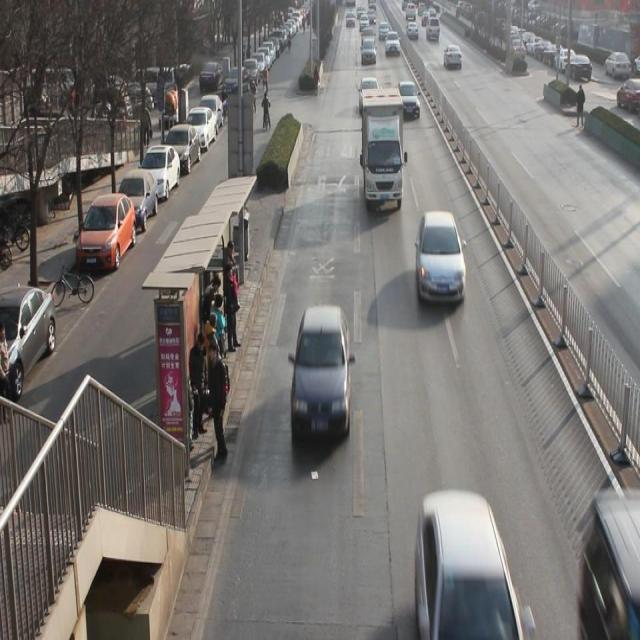bus: (362, 93, 404, 204)
car: (418, 494, 516, 630), (292, 302, 356, 449), (414, 214, 471, 315), (398, 80, 422, 118), (359, 76, 380, 112), (443, 46, 463, 69), (361, 40, 378, 66), (385, 32, 401, 56)
